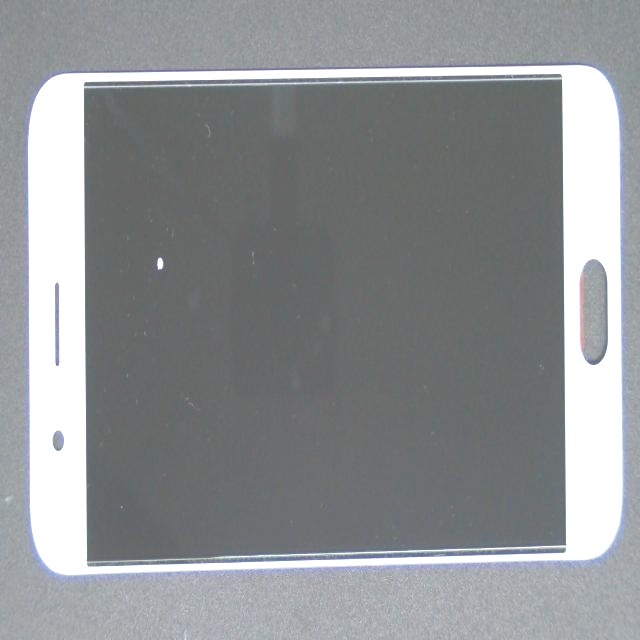stain: (77, 77, 223, 373)
